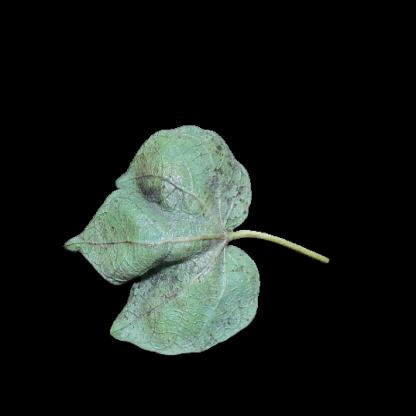curl_stage2: (162, 132, 204, 201), (109, 212, 161, 267), (169, 302, 217, 341)
sooty: (207, 168, 253, 220)
